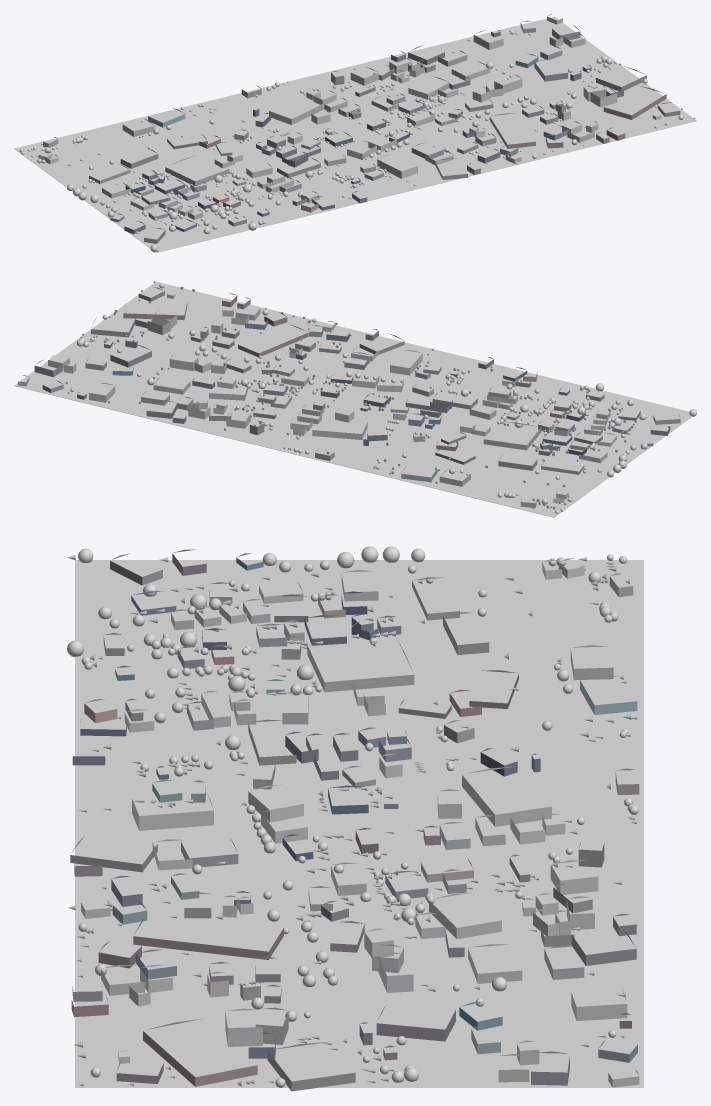
3 views of the same model, one above another, from view 1: azimuth 30°, elevation 25°; view 2: azimuth 150°, elevation 25°; view 3: azimuth 270°, elevation 25° (orthographic). The views are drawn at different scales.
Parts seen in each view (by area): view 1: Ground_Base, BLD-002, BLD-001; view 2: Ground_Base, BLD-002, BLD-001; view 3: Ground_Base, BLD-011, BLD-009, BLD-003, BLD-002, BLD-001, BLD-006, BLD-012, BLD-005, BLD-043.
Part boxes in pixels (bbox=[...]): Ground_Base: bbox=[14, 16, 696, 252]; BLD-002: bbox=[269, 95, 324, 124]; BLD-001: bbox=[165, 155, 229, 186]; Ground_Base: bbox=[14, 281, 691, 517]; BLD-002: bbox=[312, 421, 367, 439]; BLD-001: bbox=[483, 421, 541, 450]; Ground_Base: bbox=[75, 560, 643, 1087]; BLD-011: bbox=[133, 915, 283, 959]; BLD-009: bbox=[132, 794, 213, 830]; BLD-003: bbox=[143, 1018, 257, 1086]; BLD-002: bbox=[462, 766, 551, 826]; BLD-001: bbox=[307, 643, 414, 692]; BLD-006: bbox=[267, 1041, 355, 1091]; BLD-012: bbox=[376, 1004, 455, 1041]; BLD-005: bbox=[429, 892, 501, 939]; BLD-043: bbox=[571, 989, 627, 1020].
Bounding box in the file's own units: 886 × 19 × 404.
